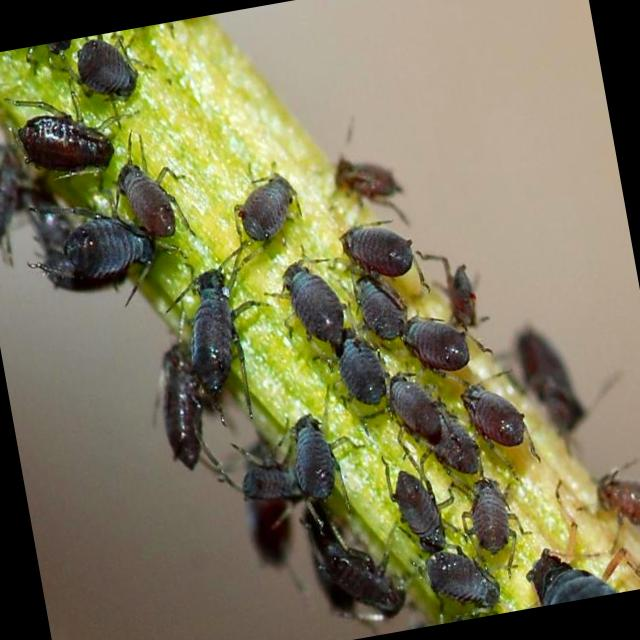aphid: (22, 173, 146, 292), (172, 248, 260, 396), (503, 514, 633, 610), (212, 140, 316, 256), (266, 238, 362, 362), (102, 141, 200, 262), (5, 82, 114, 184), (445, 434, 529, 566), (322, 234, 414, 354), (366, 446, 460, 554), (148, 338, 219, 473), (268, 386, 350, 502), (333, 191, 422, 293), (312, 304, 395, 412), (70, 33, 166, 122), (381, 360, 459, 469), (458, 362, 538, 468), (394, 295, 479, 390), (574, 445, 640, 544)
